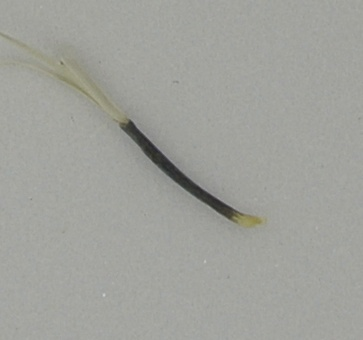เมล็ดดีเรียวยาว: (1, 33, 272, 230)
